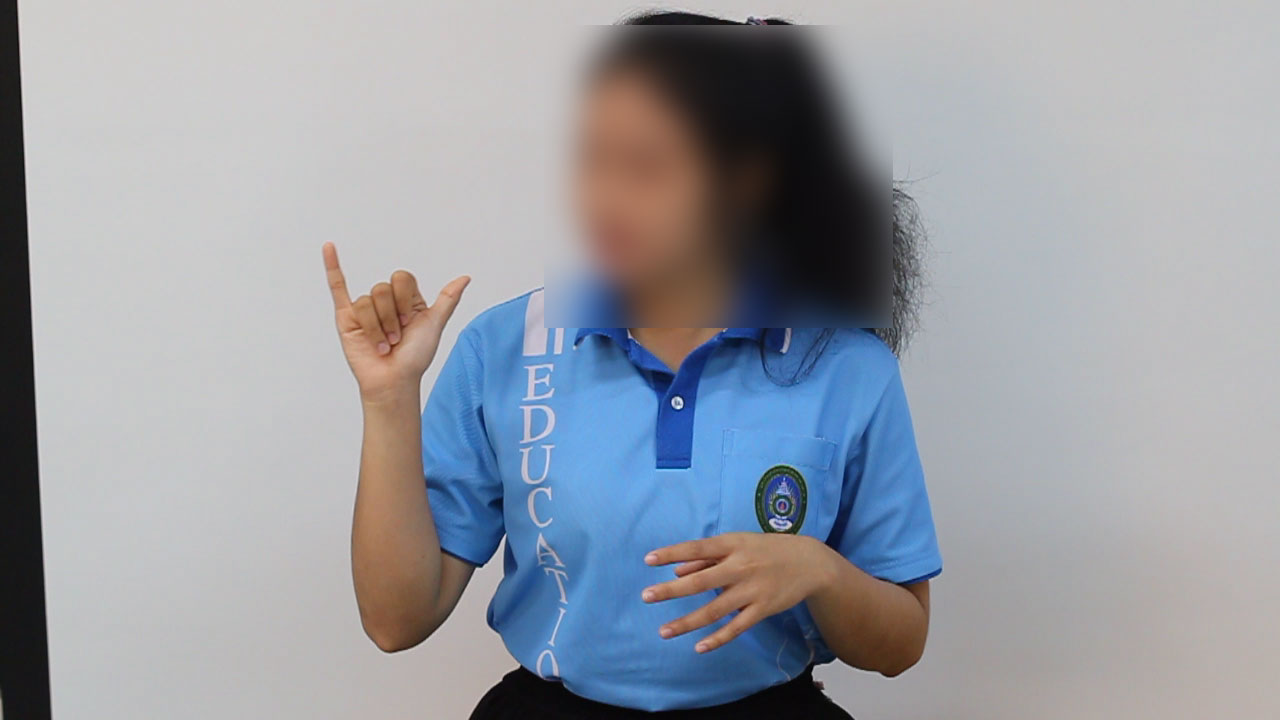yor: (303, 237, 486, 394)
